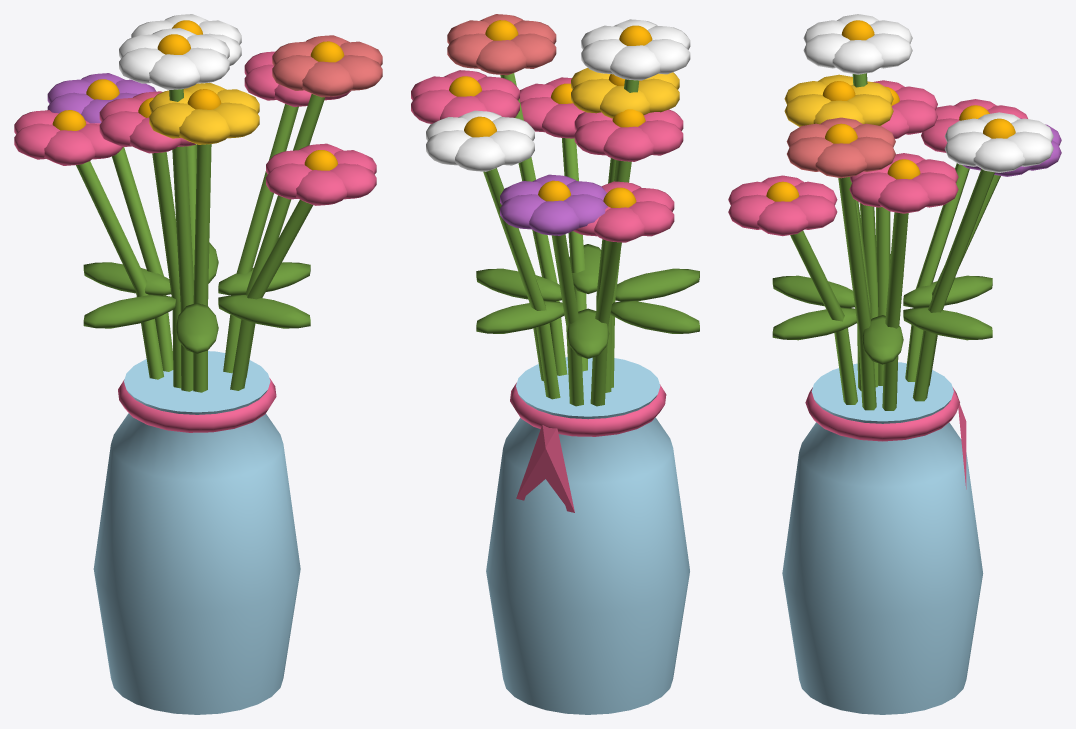
Rendered from flowers.fbx.
3 renders of one model, left to right at view 1: azimuth 30°, elevation 25°; view 2: azimuth 150°, elevation 25°; view 3: azimuth 270°, elevation 25°, orthographic. The views are drawn at different scales.
Parts seen in each view (by area): view 1: Birthday Bouquet; view 2: Birthday Bouquet; view 3: Birthday Bouquet.
Part boxes in pixels (bbox=[...]): Birthday Bouquet: bbox=[14, 14, 382, 714]; Birthday Bouquet: bbox=[411, 14, 699, 714]; Birthday Bouquet: bbox=[728, 14, 1061, 714].
Size of the model in its own units: 0.7909 by 1.69 by 0.7975.
